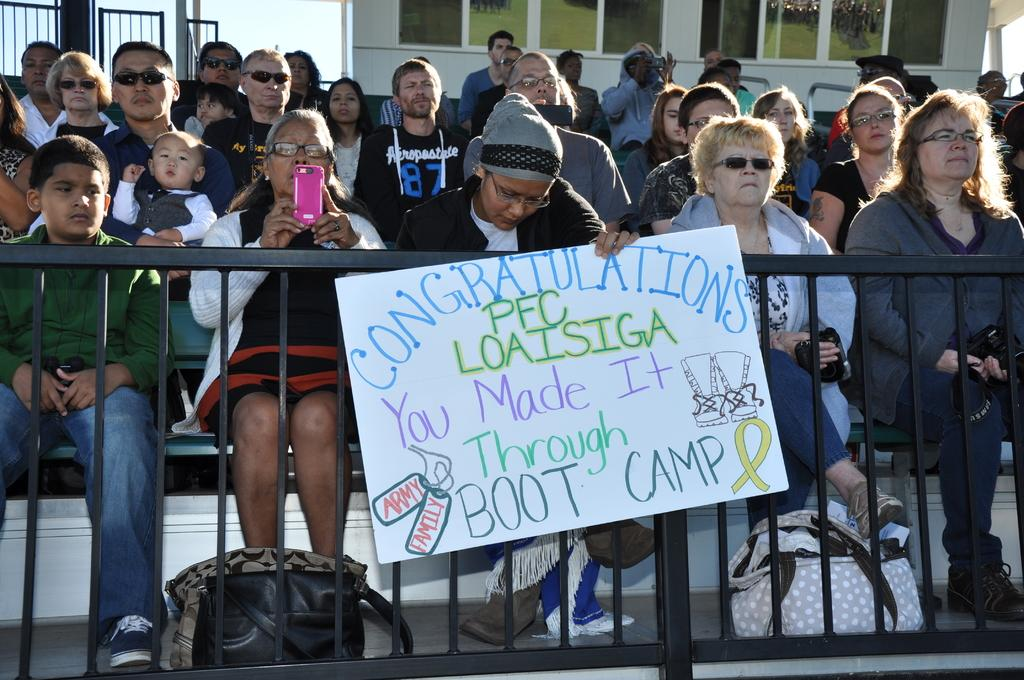Luggage-and-bags: (157, 544, 433, 670), (726, 499, 920, 648)
